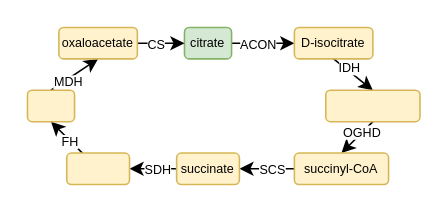
This 447x212 diagram has some shape labels left out. Each missing label, with the box of its shape:
2-oxoglutarate: (324, 89, 420, 122)
fumarate: (65, 152, 130, 184)
malate: (26, 89, 75, 122)
